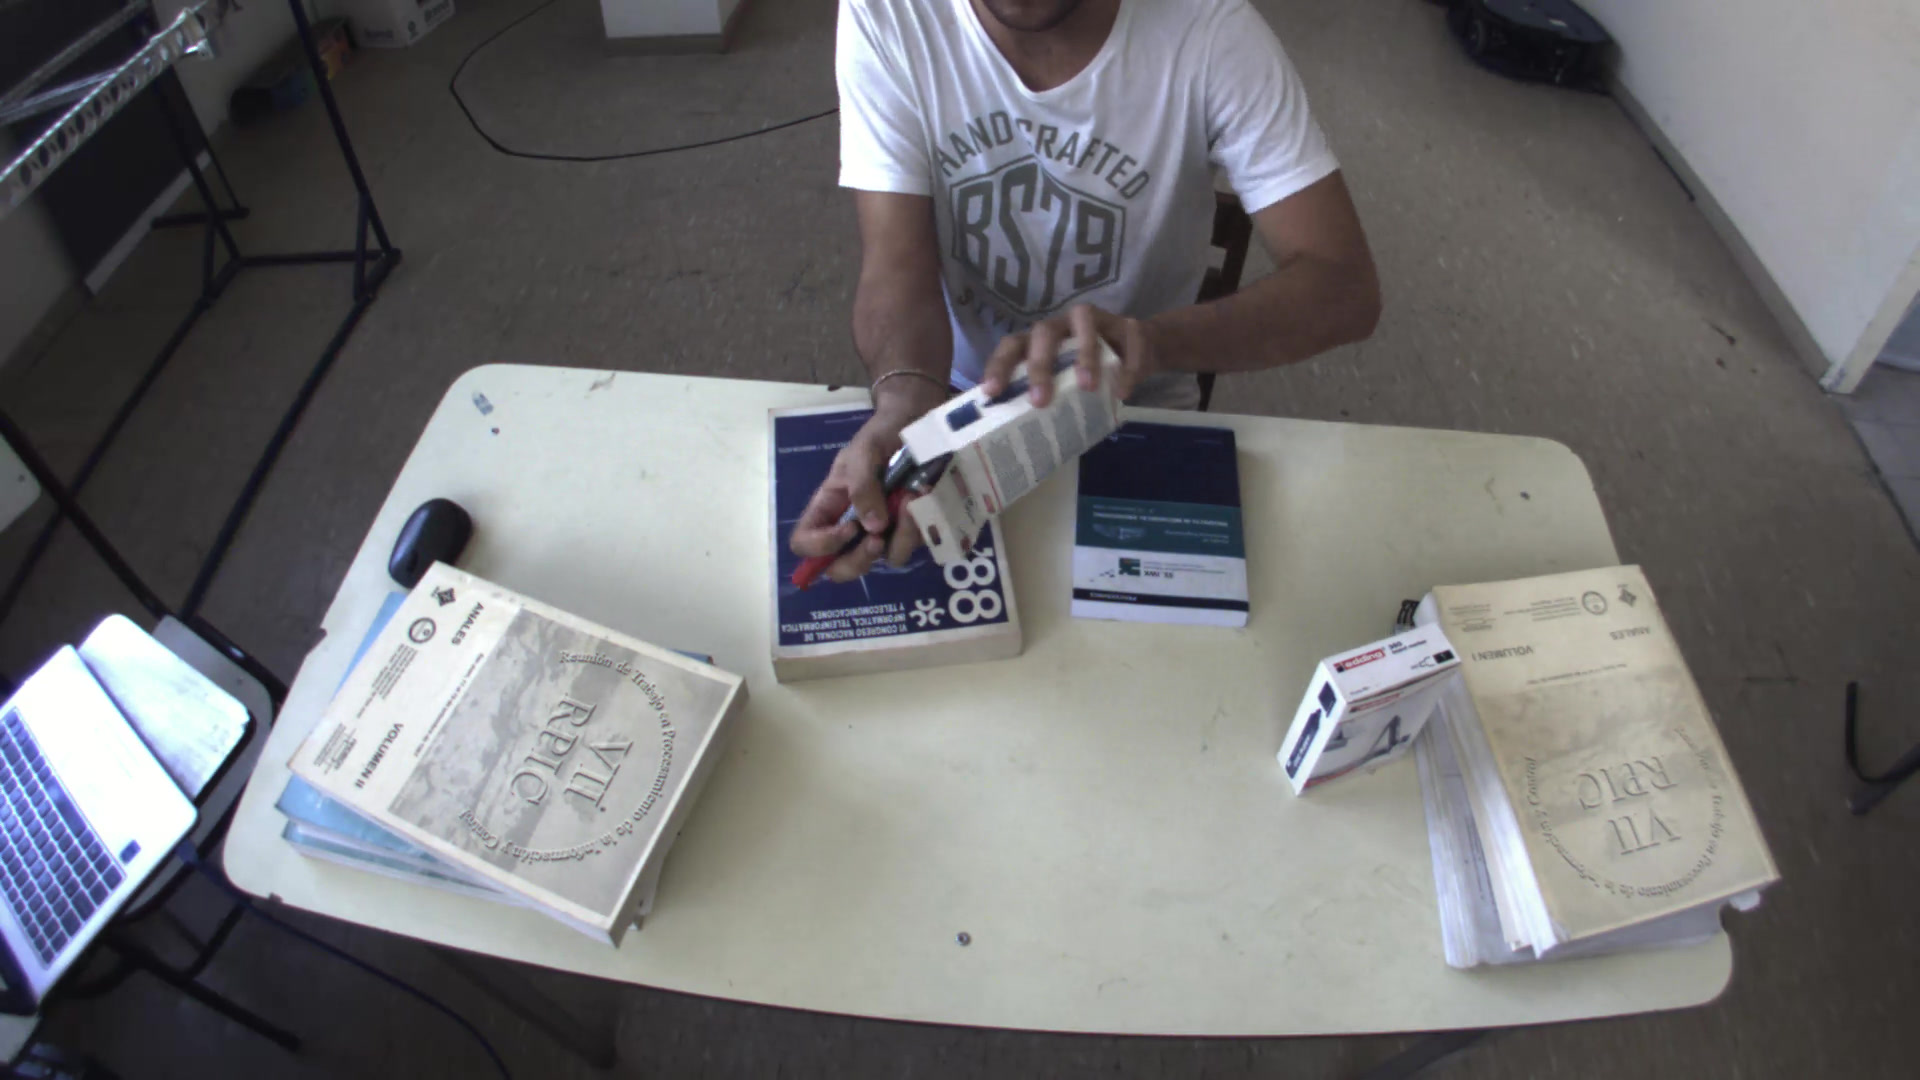hand: (785, 444, 939, 597), (976, 295, 1167, 410)
